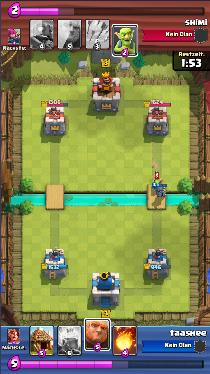enemy_mini_pekka: (153, 185, 167, 197)
enemy_spear_goblin: (151, 178, 163, 188)
